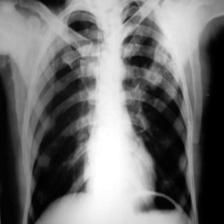tuberculosis: (26, 1, 197, 224)
